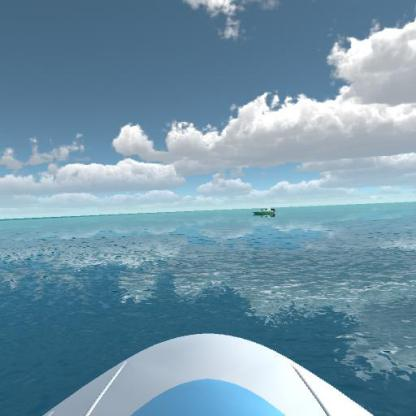usv0: (251, 205, 277, 220)
